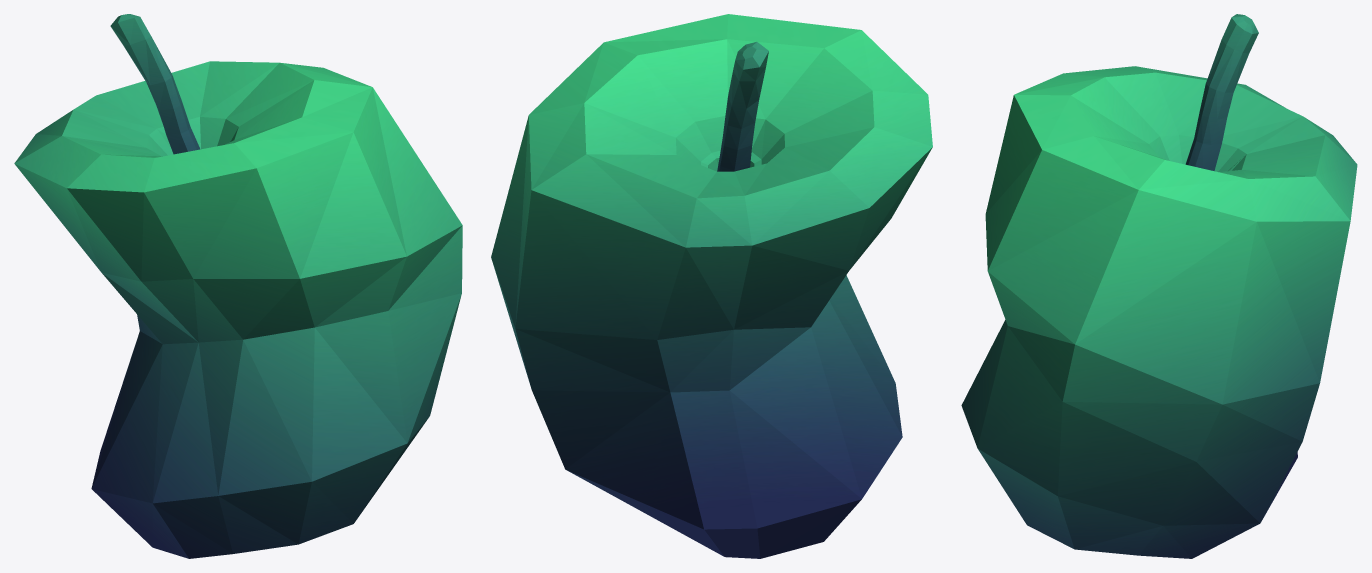
Rendered from MS_Apple_low.fbx.
3 renders of one model, left to right at view 1: azimuth 30°, elevation 25°; view 2: azimuth 150°, elevation 25°; view 3: azimuth 270°, elevation 25°, orthographic. The views are drawn at different scales.
Parts seen in each view (by area): view 1: Object009; view 2: Object009; view 3: Object009.
Part boxes in pixels (x1,y1,x2,y2): Object009: (14, 14, 462, 558); Object009: (491, 14, 932, 558); Object009: (961, 14, 1357, 558).
Bounding box in the file's own units: 203 × 261 × 190.
